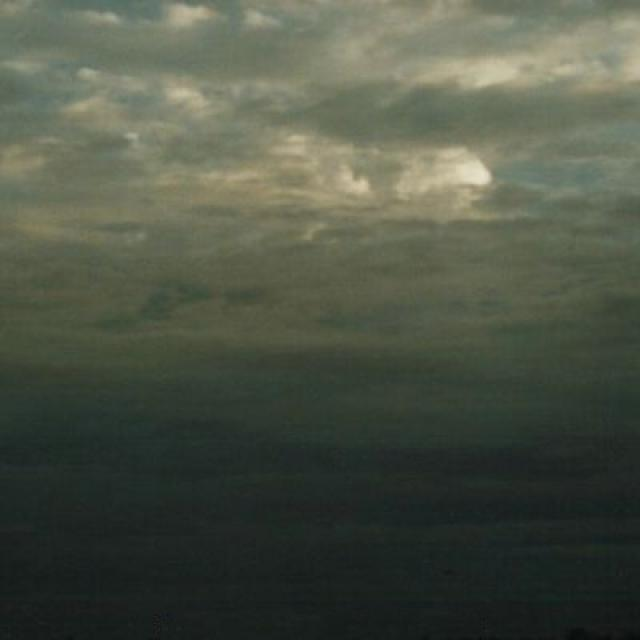Sc: (11, 1, 640, 464)
